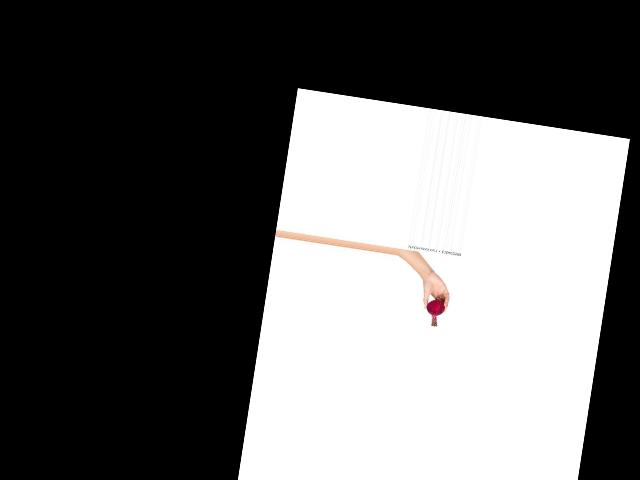beet: (424, 299, 446, 327)
